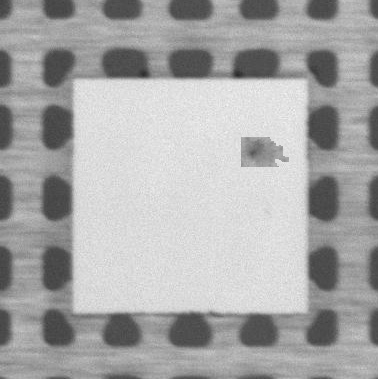DIE_INK: (240, 137, 288, 167)
